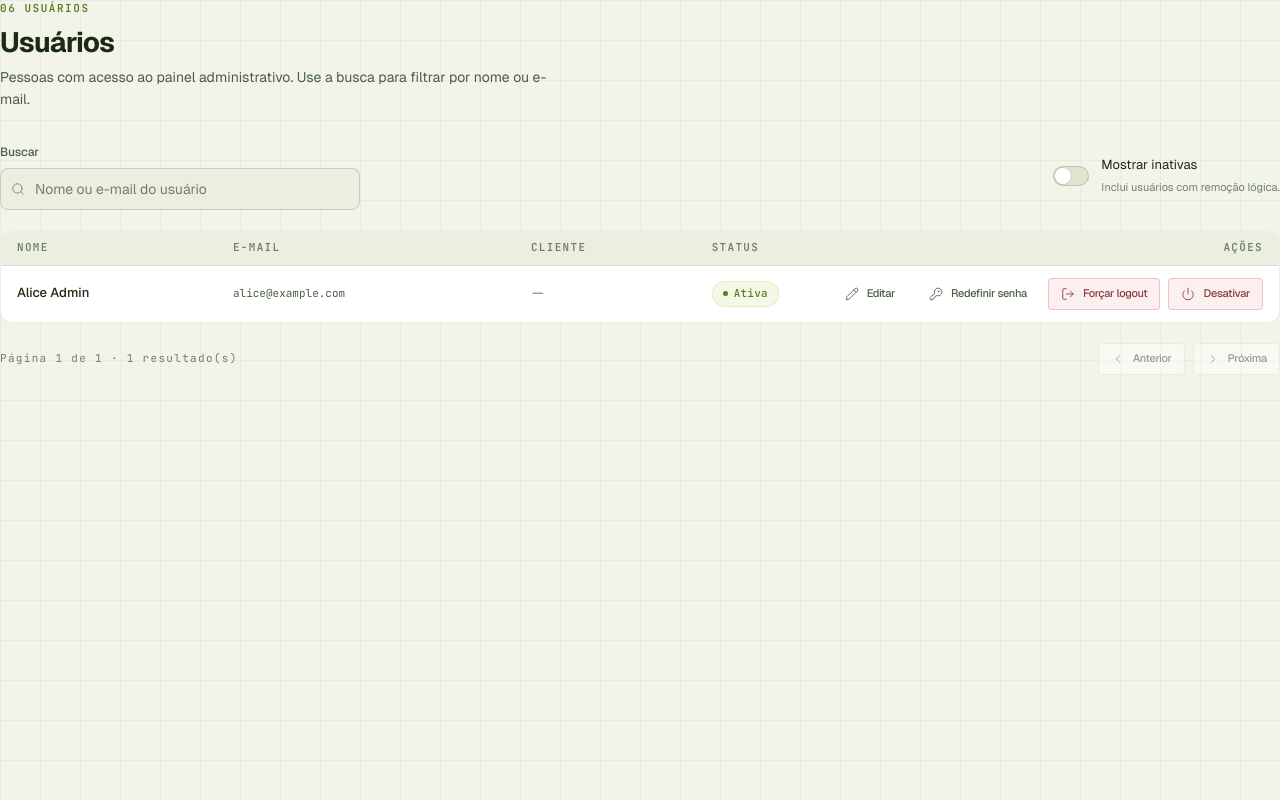
Scenario: UsersListShellPage — reset de senha (Issue #81) › abertura do modal de reset › reabrir o modal limpa estado anterior (campo vazio, sem erros)
Click the button "Redefinir senha" at [978, 294], box x1=916 y1=278 x2=1040 y2=310
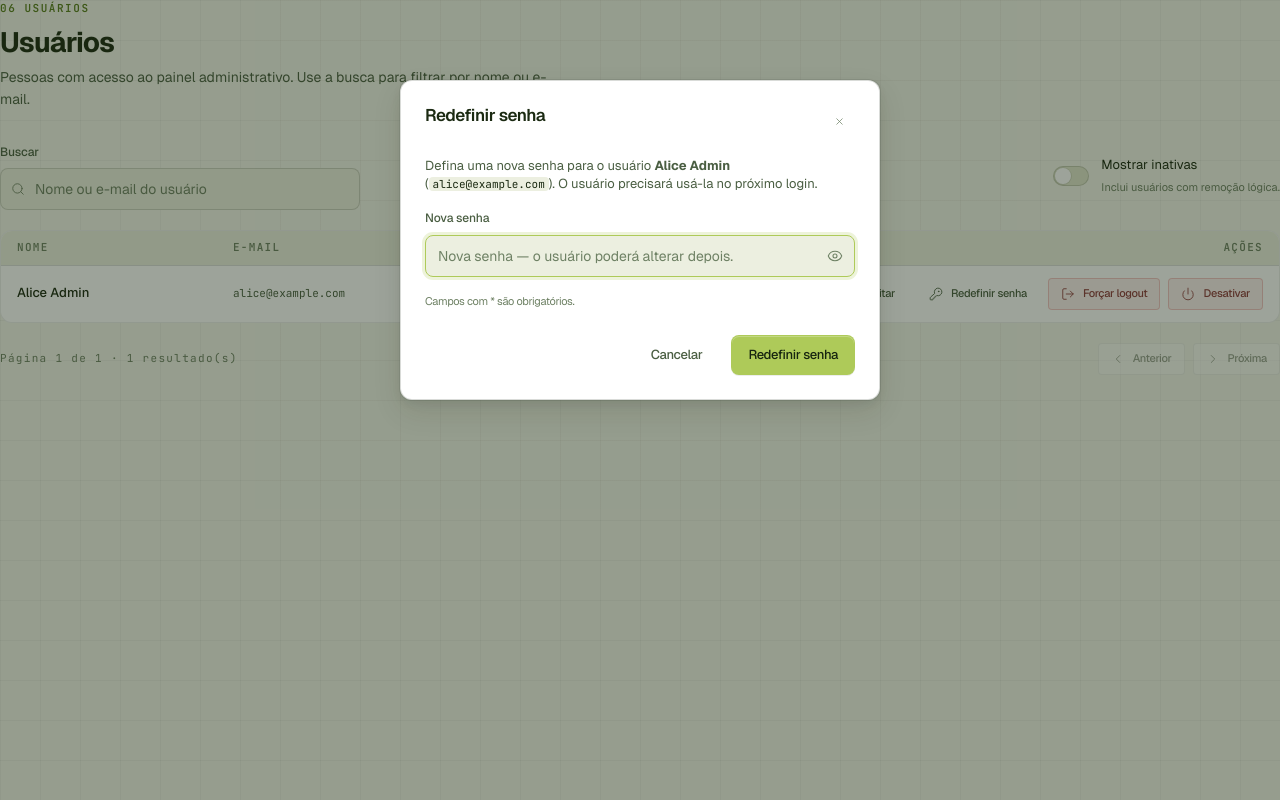
Expected: the form with test id "reset-user-password-form" is shown, x1=425 y1=157 x2=855 y2=374
Type "senha-anterior" into the password field with test id "reset-user-password-input" at [640, 256], box x1=425 y1=235 x2=855 y2=277
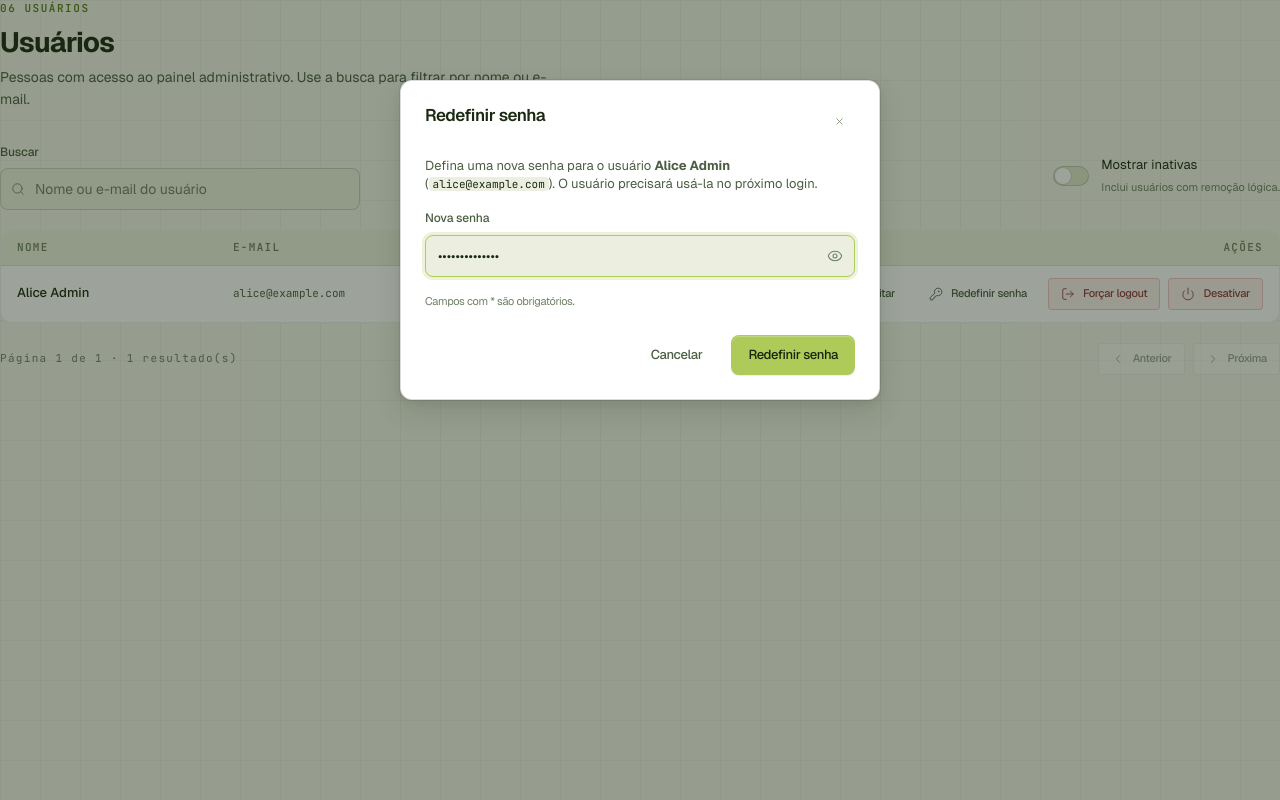
Click the button with test id "reset-user-password-cancel" at [677, 354], box x1=634 y1=334 x2=719 y2=374
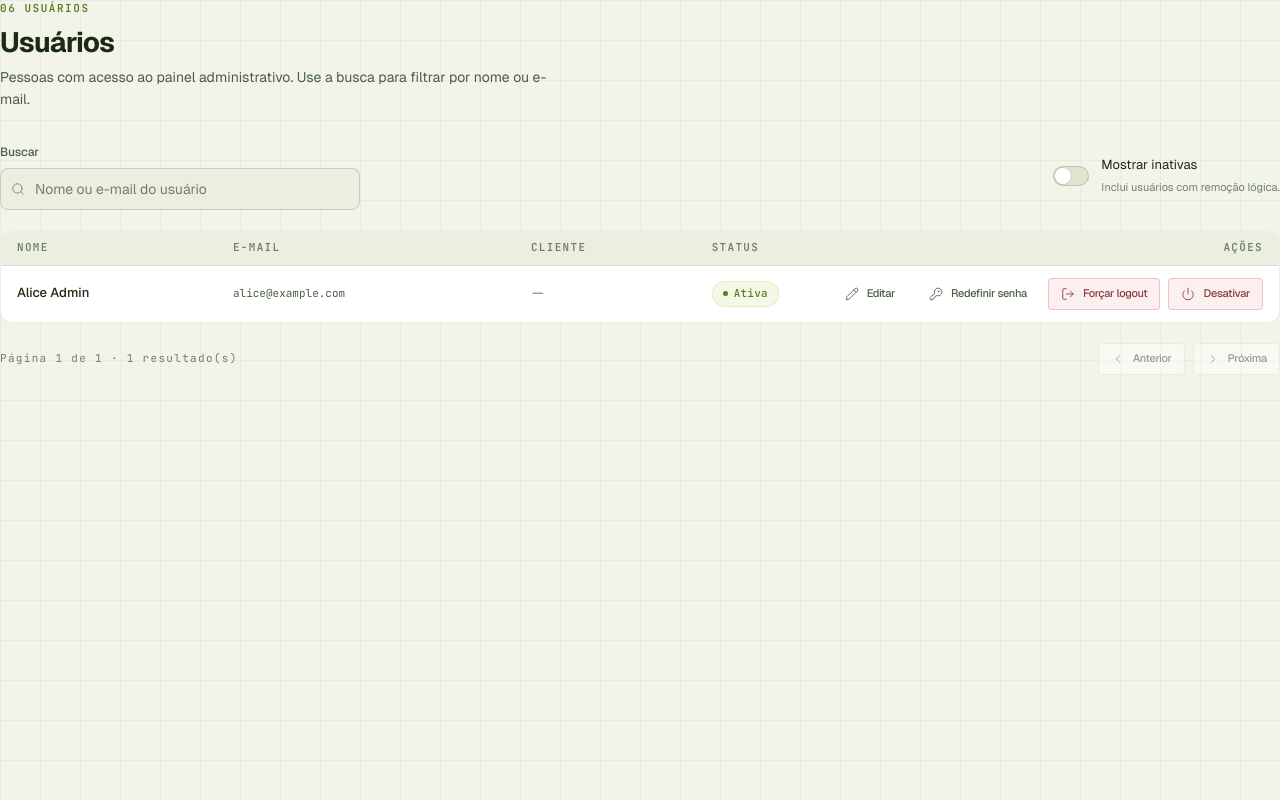
Expected: the dialog is gone
Click the button "Redefinir senha" at [978, 294], box x1=916 y1=278 x2=1040 y2=310
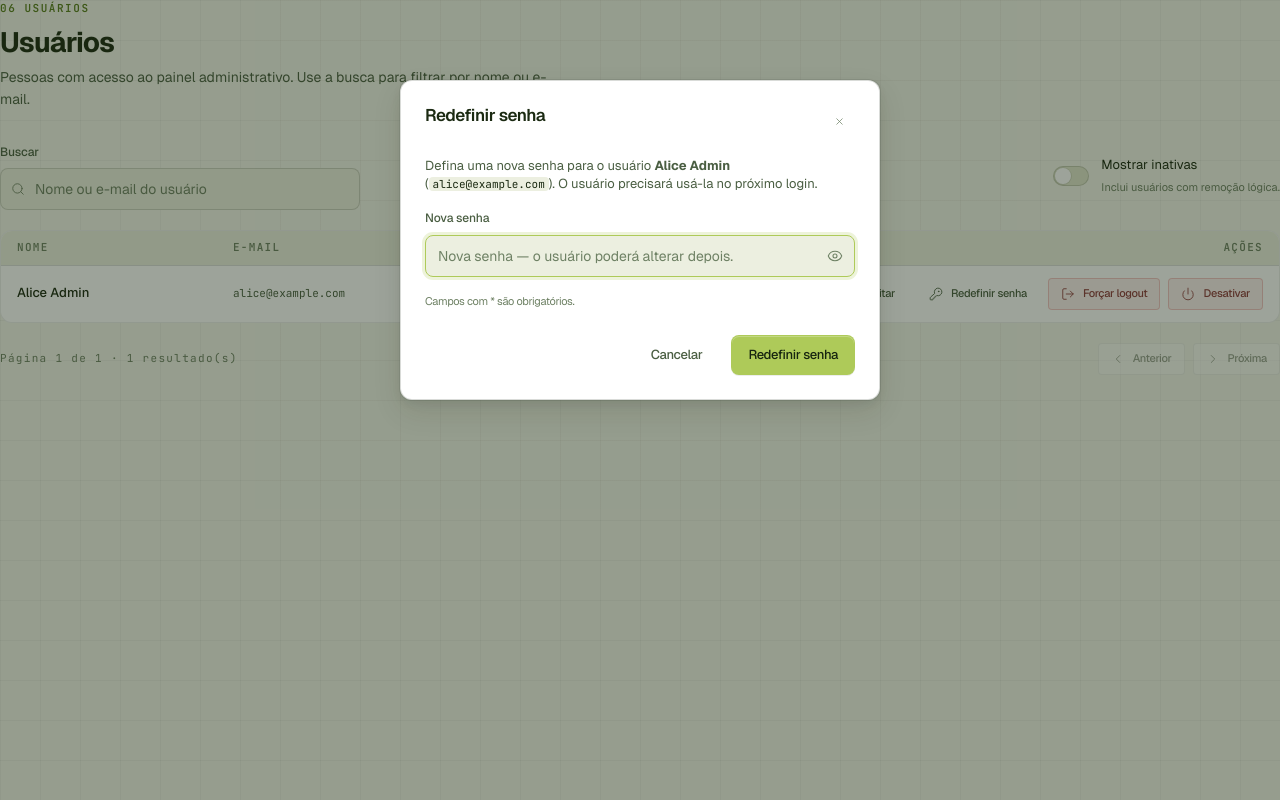
Expected: the form with test id "reset-user-password-form" is shown, x1=425 y1=157 x2=855 y2=374
Expected: the password field with test id "reset-user-password-input" is empty, x1=425 y1=235 x2=855 y2=277
